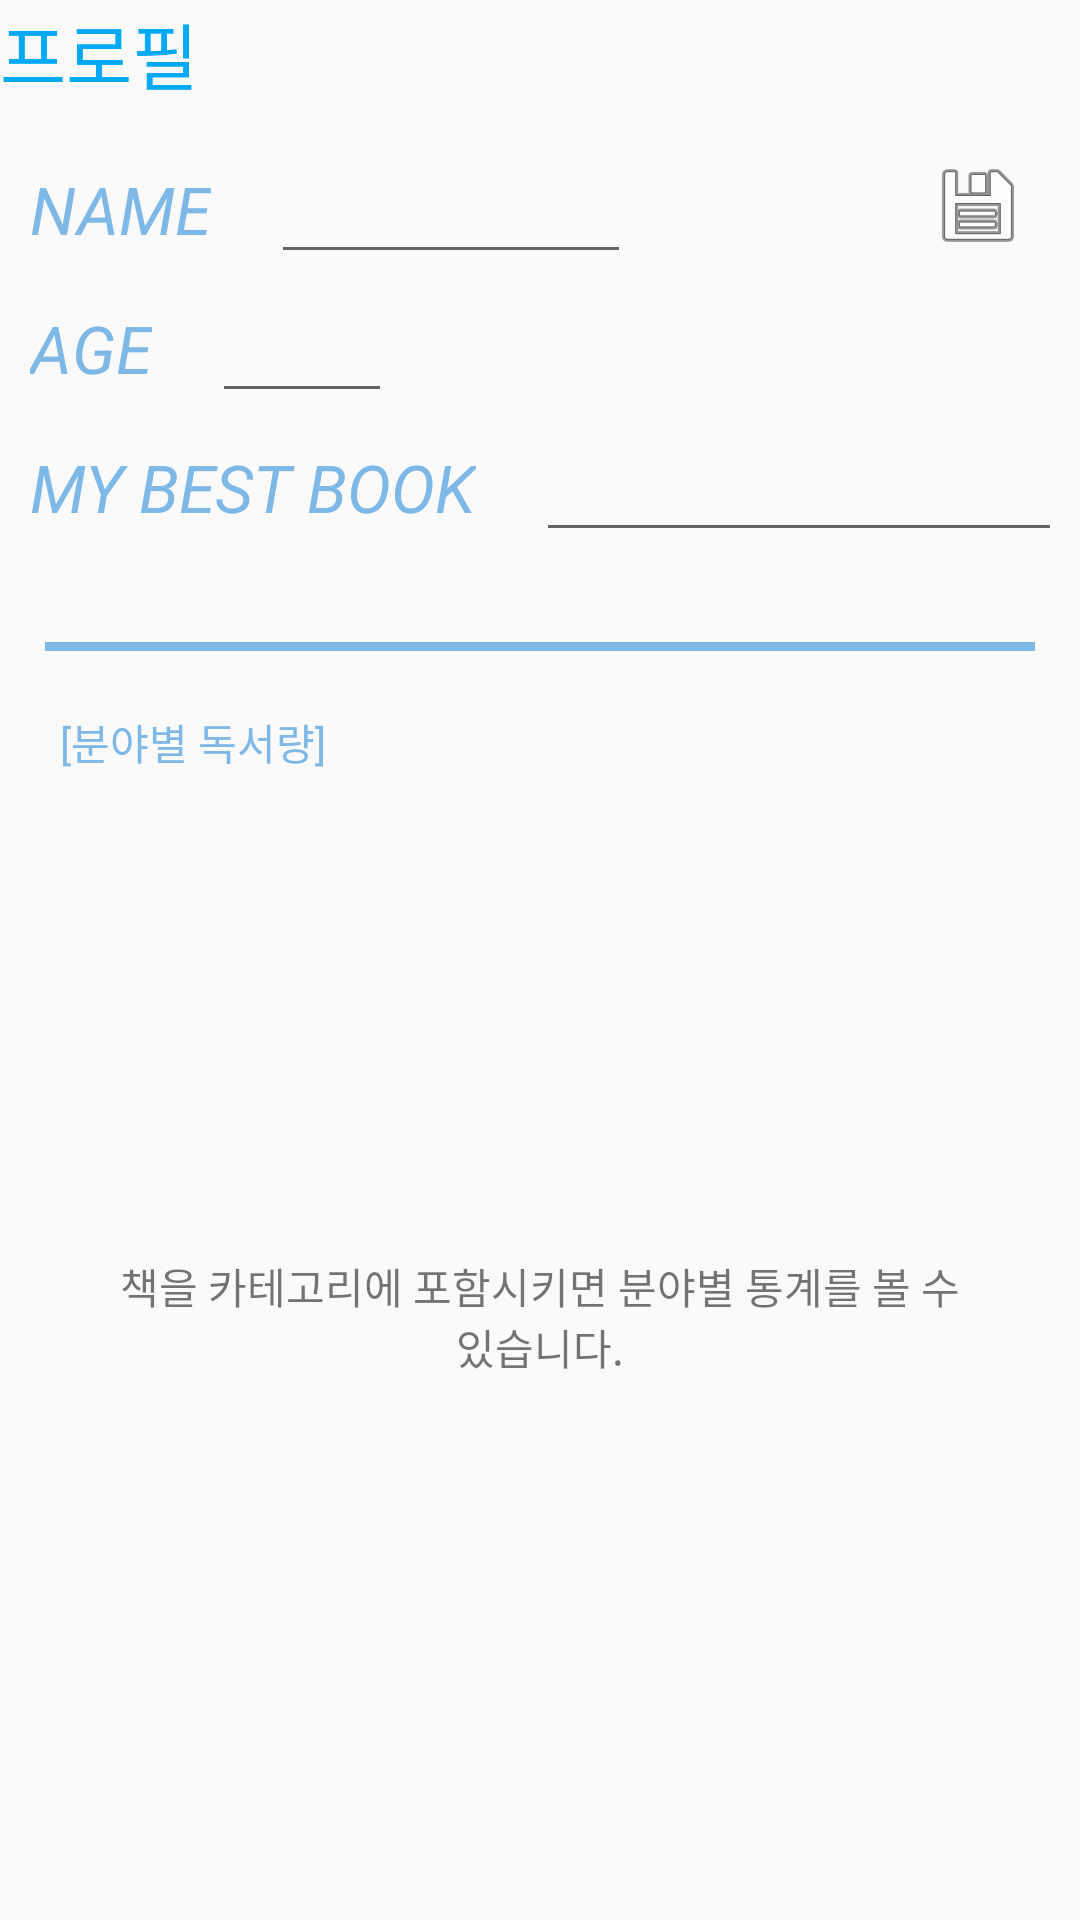

Screen size 1080x1920. Icon name, then its box in pixels as rect(x1, y1, x2, y2):
save: rect(942, 169, 1014, 242)
